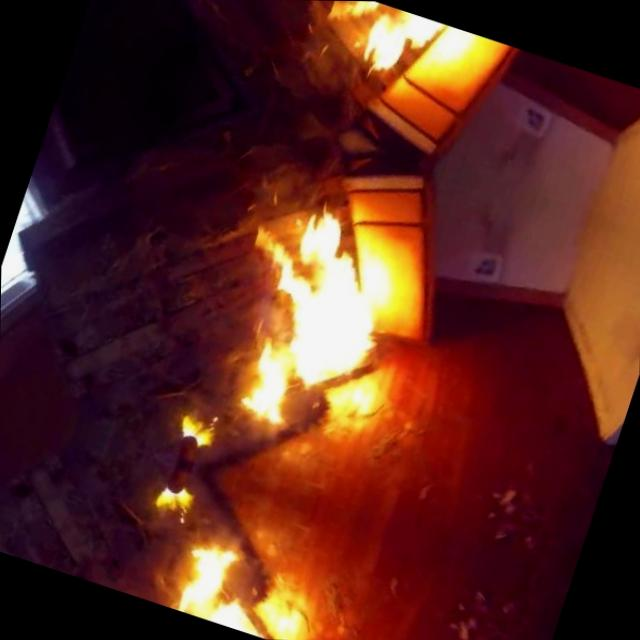fire: (155, 148, 442, 534)
